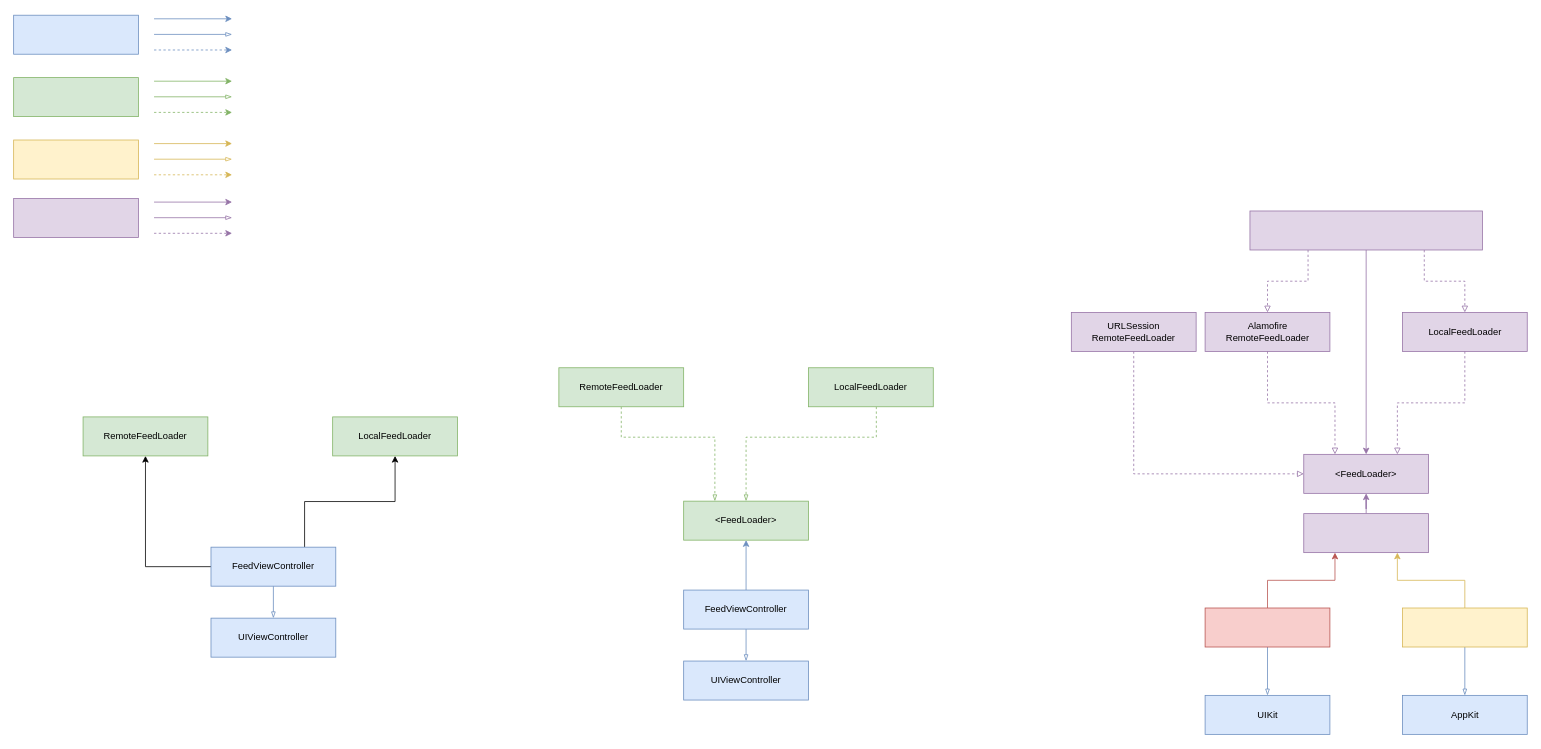
Image size: 1541x749. Some labels were removed from this diagram. Each missing label, with the centre of its shape:
"iOS UI" belongs at [1267,627].
"MacOS UI" belongs at [1464,627].
"RemoteWithLocalFallbackLoader" belongs at [1365,230].
"ViewModel" belongs at [1366,533].
